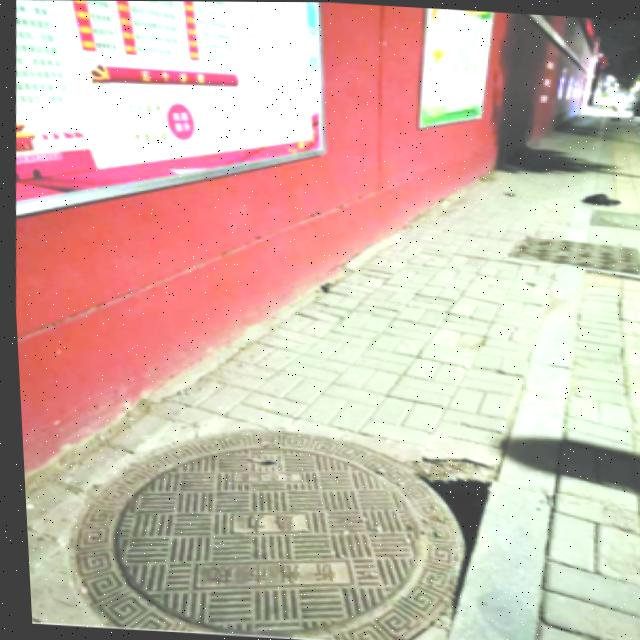manhole: (49, 409, 525, 640)
